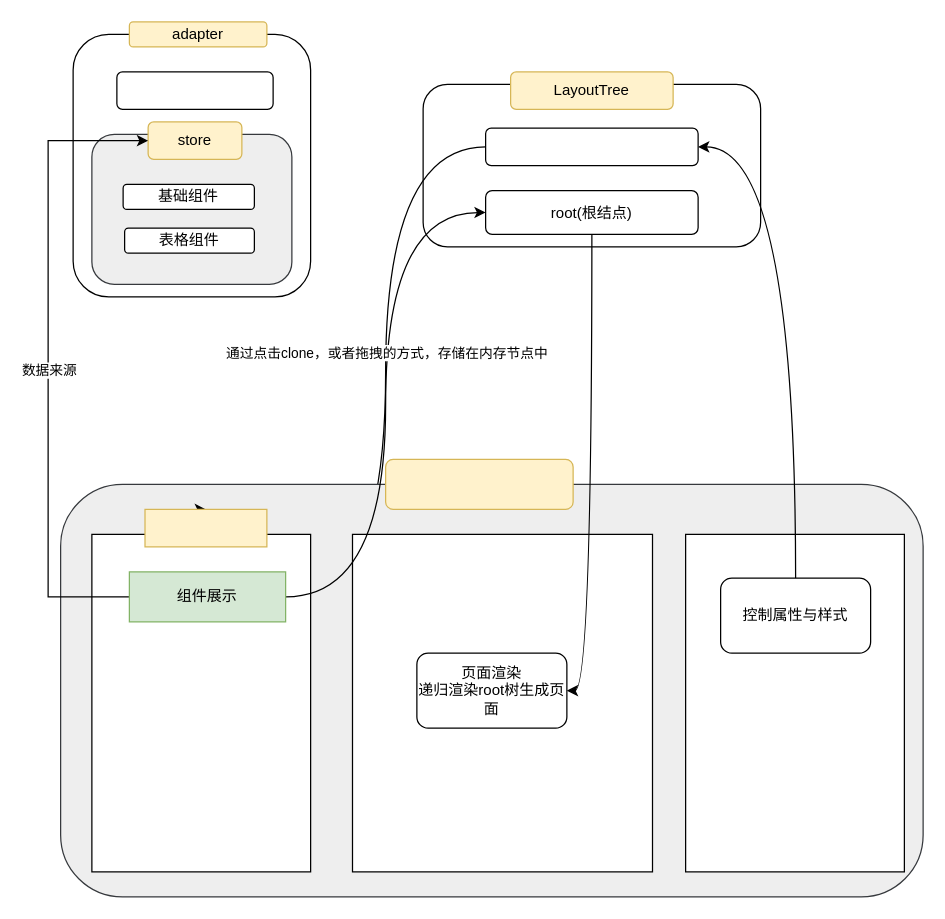
Image size: 945x919. Some labels were removed from this diagram. The shapes that lost their labels are listed below. From the top down, each one's centre as x and y in pixels, then its label:
At (194,90): "负责组建展示".
At (591,146): "activeNode( 选中的当前节点)".
At (478,483): "page".
At (205,527): "LeftDrawer.vue".
